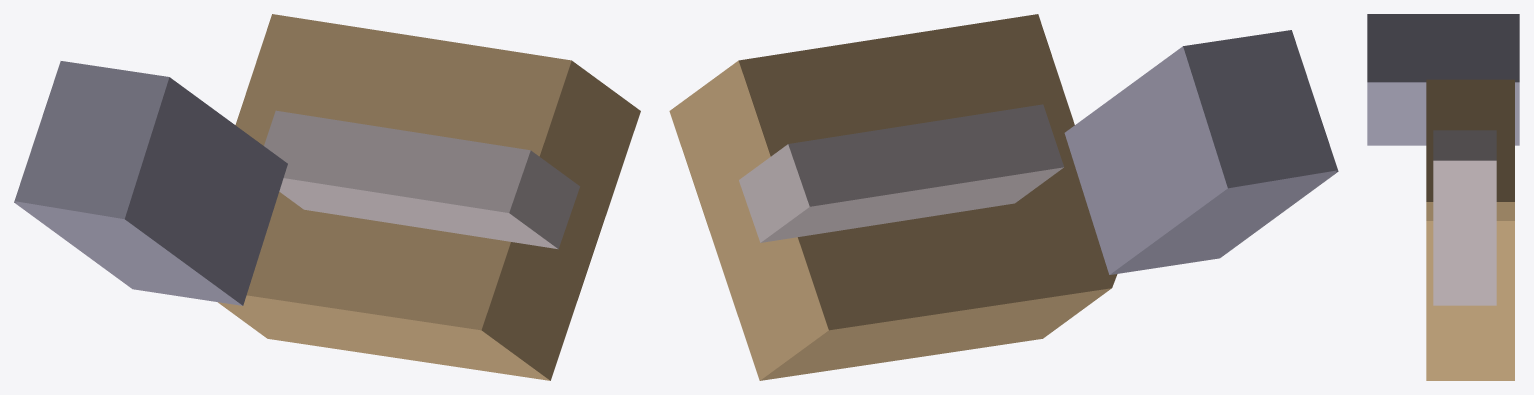
3 renders of one model, left to right at view 1: azimuth 30°, elevation 25°; view 2: azimuth 150°, elevation 25°; view 3: azimuth 270°, elevation 25°, orthographic. The views are drawn at different scales.
Visible parts, largest first — view 1: 0_3_1_3_3_0_0_0; view 2: 0_3_1_3_3_0_0_0; view 3: 0_3_1_3_3_0_0_0.
Part boxes in pixels (left/top/right/bottom): 0_3_1_3_3_0_0_0: left=14, top=14, right=640, bottom=380; 0_3_1_3_3_0_0_0: left=669, top=14, right=1338, bottom=380; 0_3_1_3_3_0_0_0: left=1367, top=14, right=1519, bottom=380.
Bounding box in the file's own units: 97.16 × 61.77 × 36.
